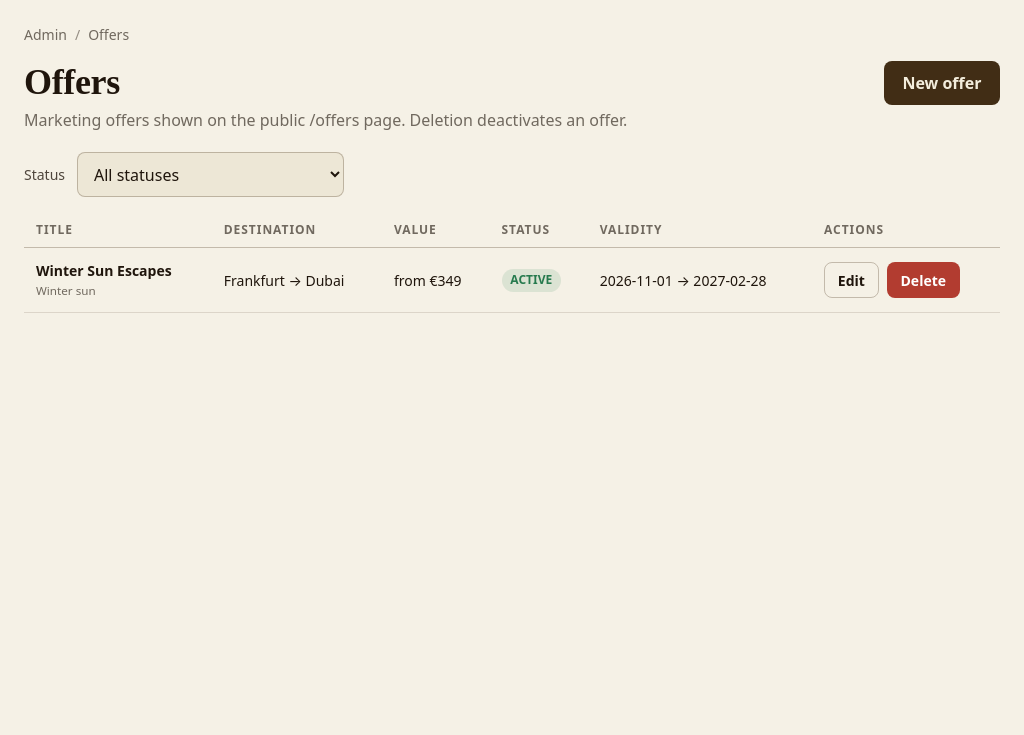
Test: AdminOffersPage › rejects an image URL that is neither assets/ nor https
Click the button "New offer": click(942, 83) [884, 61, 1000, 105]
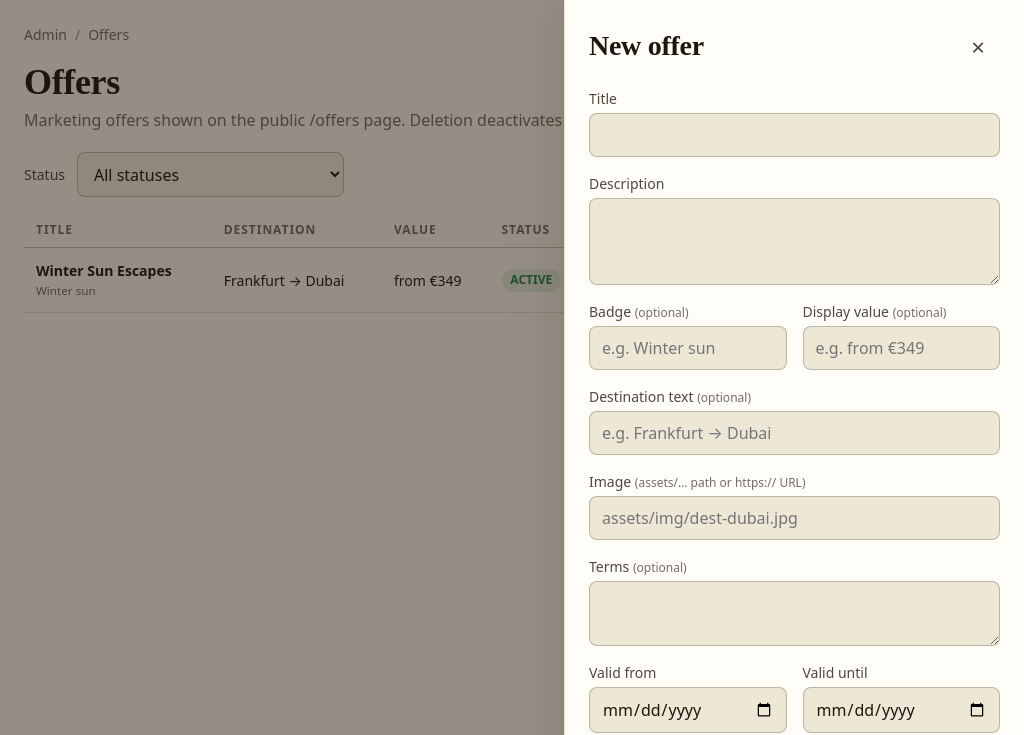
In the field with id "of-title": (794, 135) [589, 113, 1000, 157], type "Bad Image Sale"
In the text box with id "of-desc": (794, 242) [589, 198, 1000, 285], type "Offer with a disallowed image URL."
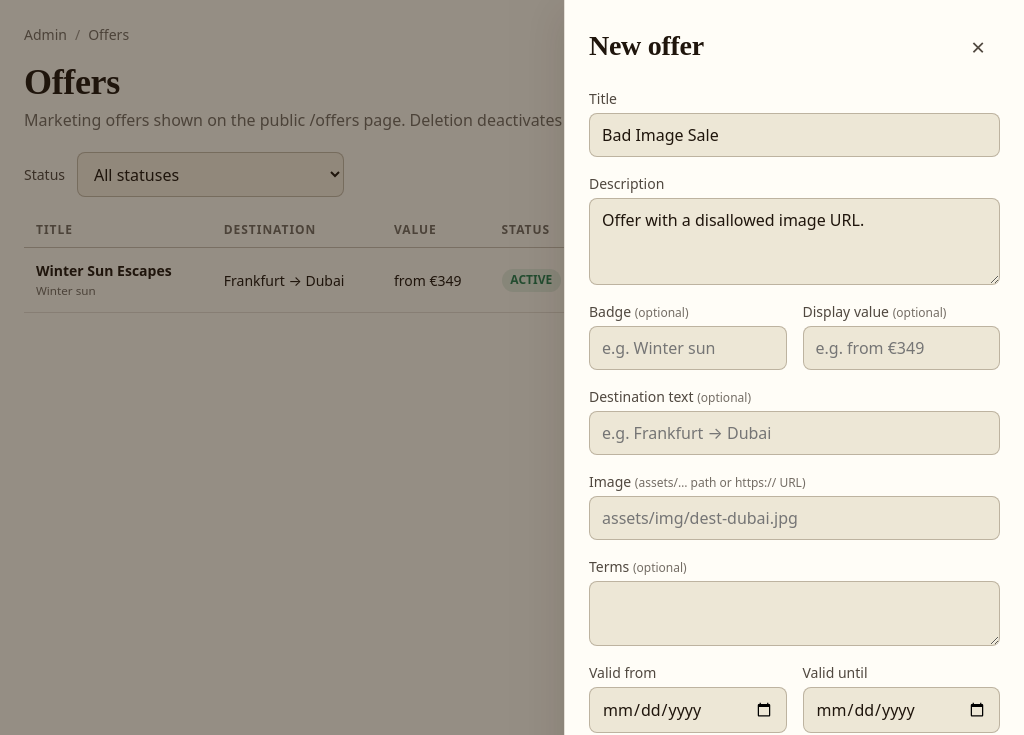
In the field with id "of-img": (794, 518) [589, 496, 1000, 540], type "http://insecure.example.com/x.jpg"
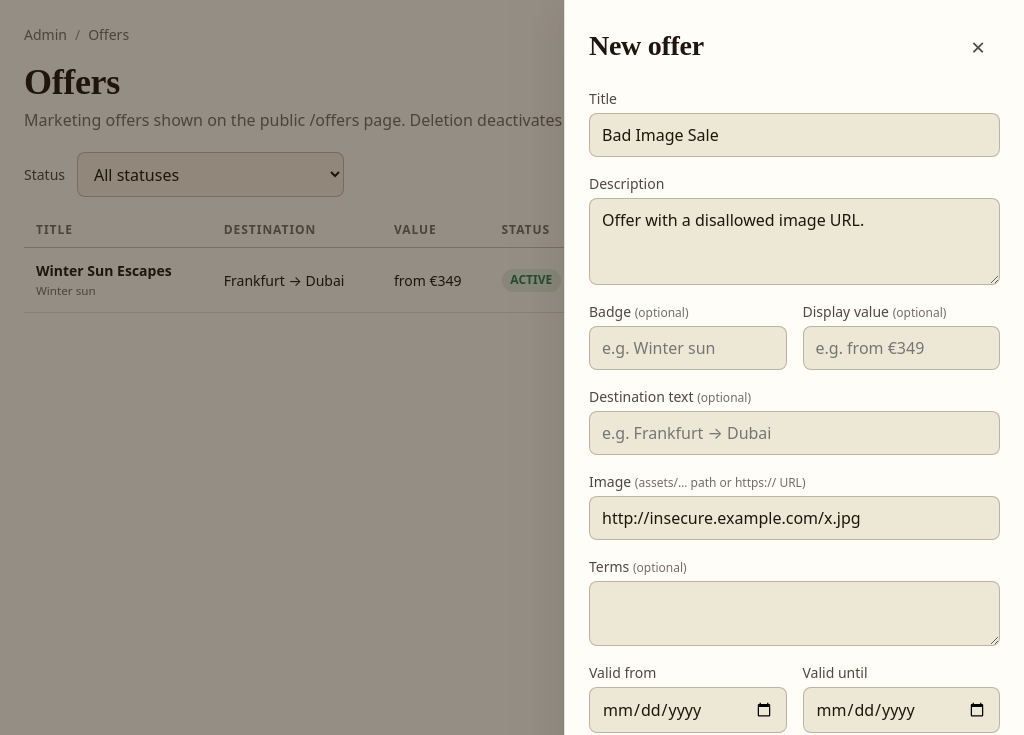
In the date field with id "of-from": (688, 710) [589, 687, 786, 733], type "2027-03-01"
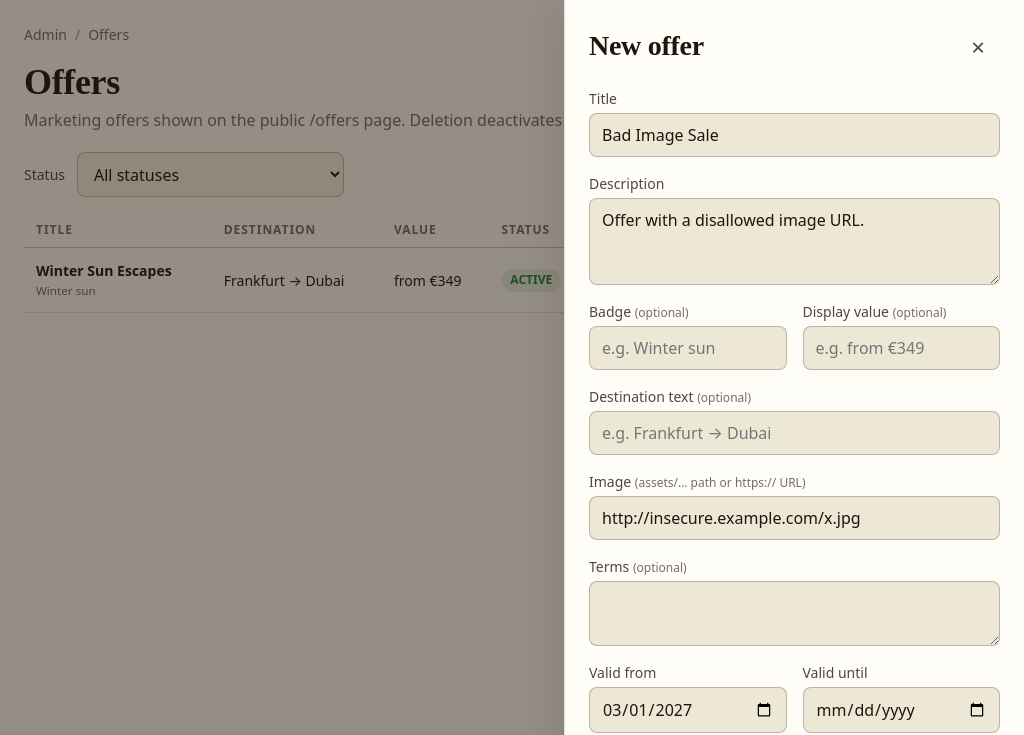
In the date field with id "of-until": (901, 710) [802, 687, 1000, 733], type "2027-05-31"
(page scrolled)
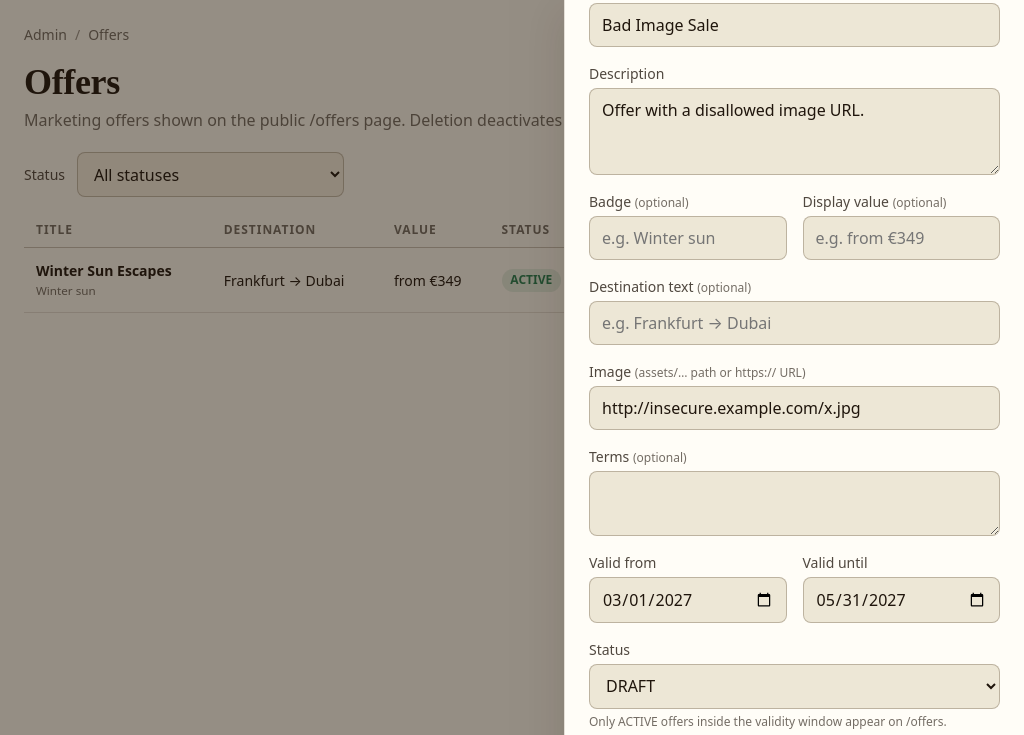
Submit the form
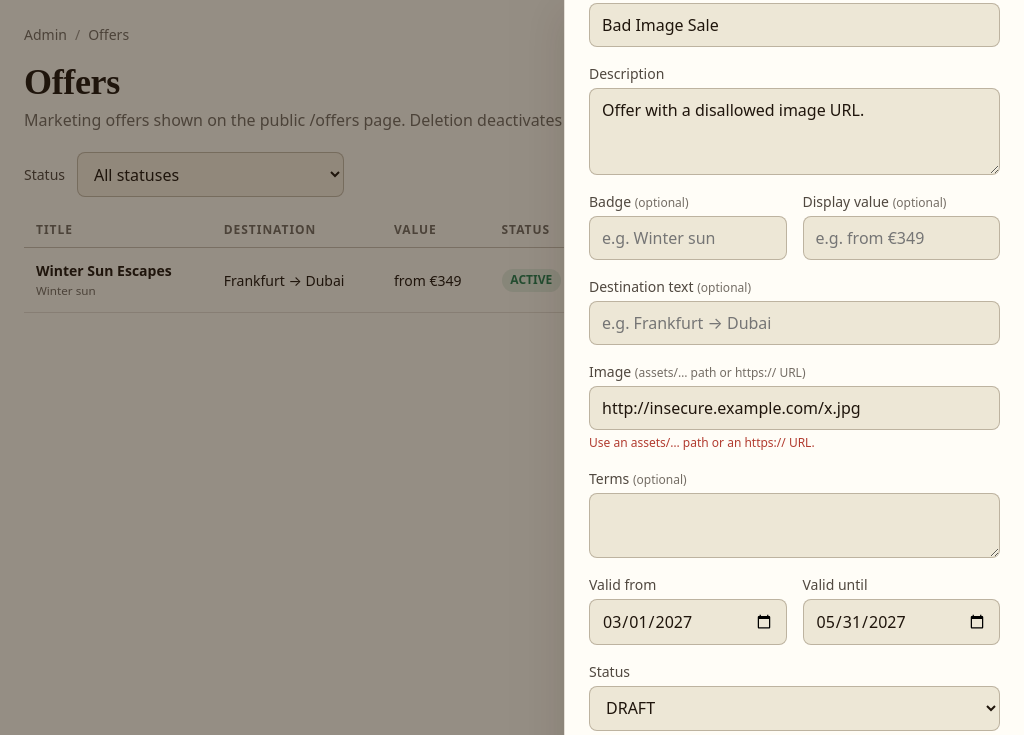
Expected: the text "Use an assets/… path or an https:// URL." is shown, [589, 434, 815, 451]
